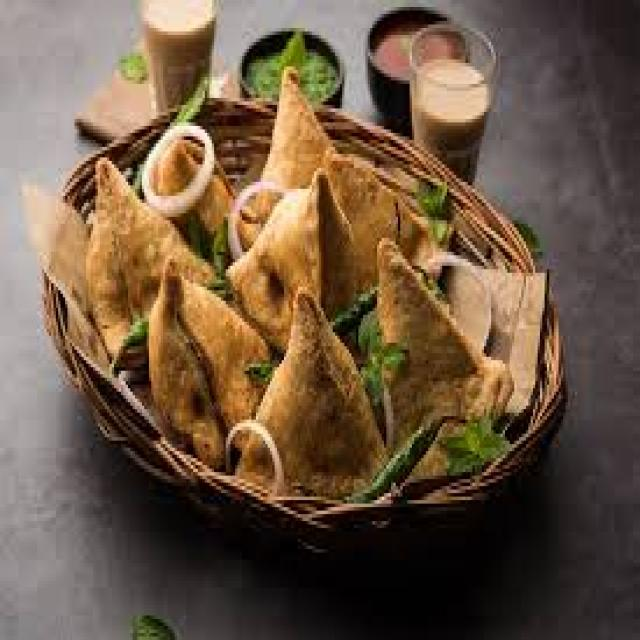SAMOSA: (237, 293, 390, 497), (378, 248, 513, 457), (86, 153, 206, 366), (149, 267, 269, 465), (231, 173, 357, 349), (252, 71, 328, 234), (332, 151, 416, 296)
